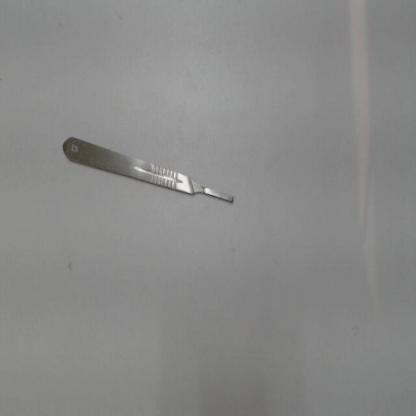No.4 BP Handle: (59, 127, 247, 224)
